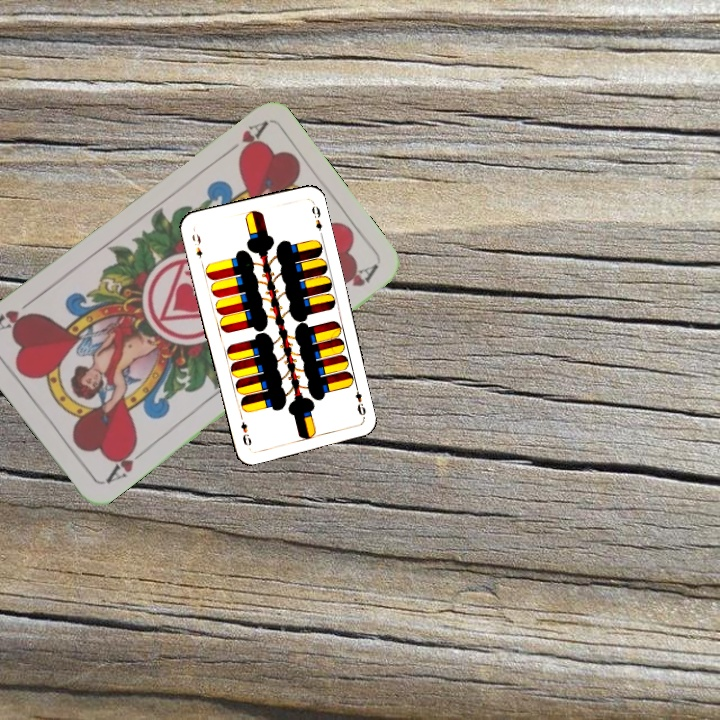E9: (351, 381, 368, 418), (188, 230, 205, 261)
HA: (101, 439, 151, 487), (218, 118, 269, 161)
